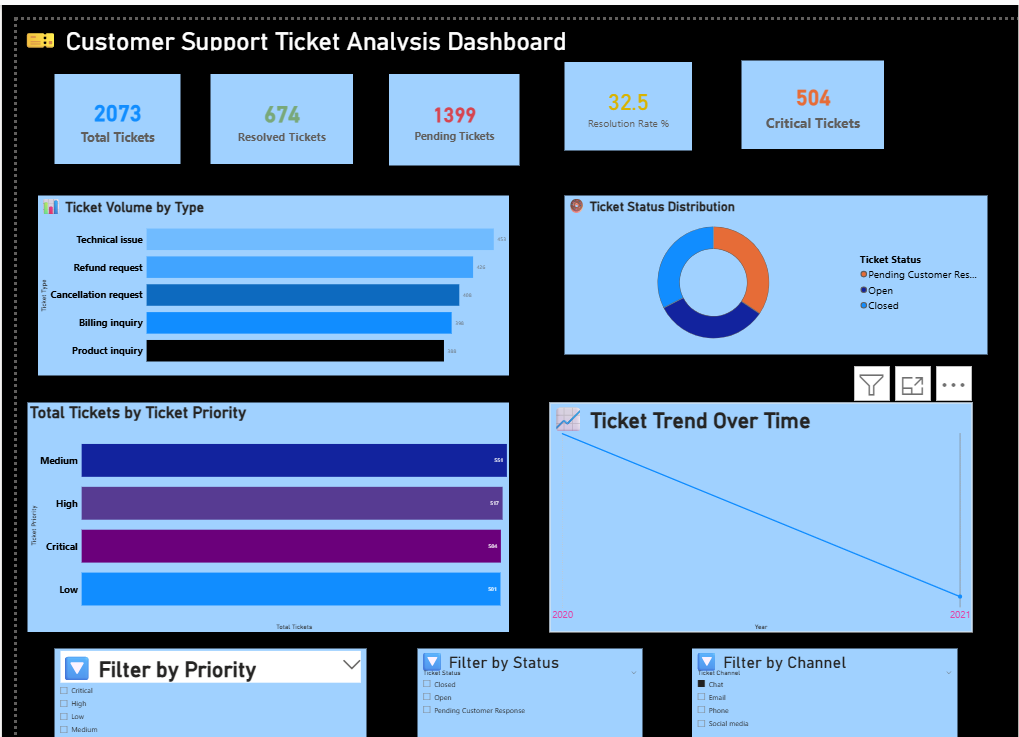

This screenshot's page, from the dashboard's own definition file:
{"tool":"powerbi","page":{"name":"Page 1","canvas":[3000,1600],"ordinal":0},"visuals":[{"type":"shape","title":"🎫 Customer Support Ticket Analysis Dashboard","box":[9.4,0,1269.9,68],"z":0},{"type":"card","fields":{"Values":["Cleaned_Data.Total Tickets"]},"box":[83.3,120,280,200],"z":1000},{"type":"card","fields":{"Values":["Cleaned_Data.Resolved Tickets"]},"box":[430,120,316.7,200],"z":2000},{"type":"card","fields":{"Values":["Cleaned_Data.Resolution Rate %"]},"box":[1216.7,93.3,283.3,196.7],"z":3000},{"type":"card","fields":{"Values":["Cleaned_Data.Pending Tickets"]},"box":[826.7,120,290,203.3],"z":4000},{"type":"card","fields":{"Values":["Cleaned_Data.Critical Tickets"]},"box":[1610,90,316.7,196.7],"z":5000},{"type":"clusteredBarChart","title":"📊 Ticket Volume by Type","fields":{"Category":["Cleaned_Data.Ticket Type"],"Y":["Cleaned_Data.Total Tickets"]},"box":[46.7,390,1046.7,400],"z":6000},{"type":"donutChart","title":"🍩 Ticket Status Distribution","fields":{"Category":["Cleaned_Data.Ticket Status"],"Y":["Cleaned_Data.Total Tickets"]},"box":[1216.7,390,940,353.3],"z":7000},{"type":"lineChart","title":"📈 Ticket Trend Over Time","fields":{"Y":["Cleaned_Data.Total Tickets"],"Category":["Cleaned_Data.Date of Purchase.Variation.Date Hierarchy.Year"]},"box":[1183.3,850,940,510],"z":8000},{"type":"clusteredBarChart","fields":{"Category":["Cleaned_Data.Ticket Priority"],"Y":["Cleaned_Data.Total Tickets"]},"box":[23.3,850,1070,510],"z":9000},{"type":"slicer","fields":{"Values":["Cleaned_Data.Ticket Priority"]},"box":[83.3,1396.7,693.3,233.3],"z":10000},{"type":"slicer","title":"🔽 Filter by Status","fields":{"Values":["Cleaned_Data.Ticket Status"]},"box":[890,1396.7,500,246.7],"z":11000},{"type":"slicer","title":"🔽 Filter by Channel","fields":{"Values":["Cleaned_Data.Ticket Channel"]},"box":[1500,1396.7,590,246.7],"z":12000}]}

Visuals, with their boxes on the page's 3000x1600 design canvas (x1, y1, x2, y2). These are canvas units, not pixel positions in the 1019x737 screenshot, which may show the page scaled, cropped or inside an application window:
"🎫 Customer Support Ticket Analysis Dashboard" shape: {"x1": 9, "y1": 0, "x2": 1279, "y2": 68}
card - Cleaned_Data.Total Tickets: {"x1": 83, "y1": 120, "x2": 363, "y2": 320}
card - Cleaned_Data.Resolved Tickets: {"x1": 430, "y1": 120, "x2": 747, "y2": 320}
card - Cleaned_Data.Resolution Rate %: {"x1": 1217, "y1": 93, "x2": 1500, "y2": 290}
card - Cleaned_Data.Pending Tickets: {"x1": 827, "y1": 120, "x2": 1117, "y2": 323}
card - Cleaned_Data.Critical Tickets: {"x1": 1610, "y1": 90, "x2": 1927, "y2": 287}
"📊 Ticket Volume by Type" clusteredBarChart: {"x1": 47, "y1": 390, "x2": 1093, "y2": 790}
"🍩 Ticket Status Distribution" donutChart: {"x1": 1217, "y1": 390, "x2": 2157, "y2": 743}
"📈 Ticket Trend Over Time" lineChart: {"x1": 1183, "y1": 850, "x2": 2123, "y2": 1360}
clusteredBarChart - Cleaned_Data.Ticket Priority x Cleaned_Data.Total Tickets: {"x1": 23, "y1": 850, "x2": 1093, "y2": 1360}
slicer - Cleaned_Data.Ticket Priority: {"x1": 83, "y1": 1397, "x2": 777, "y2": 1630}
"🔽 Filter by Status" slicer: {"x1": 890, "y1": 1397, "x2": 1390, "y2": 1643}
"🔽 Filter by Channel" slicer: {"x1": 1500, "y1": 1397, "x2": 2090, "y2": 1643}
